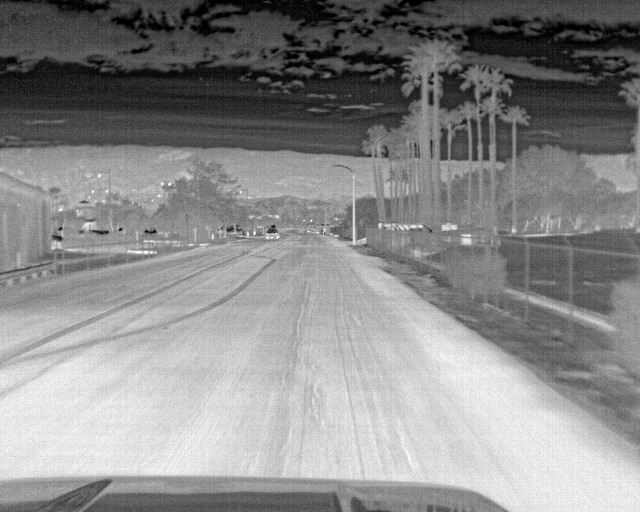car: (265, 220, 283, 241)
